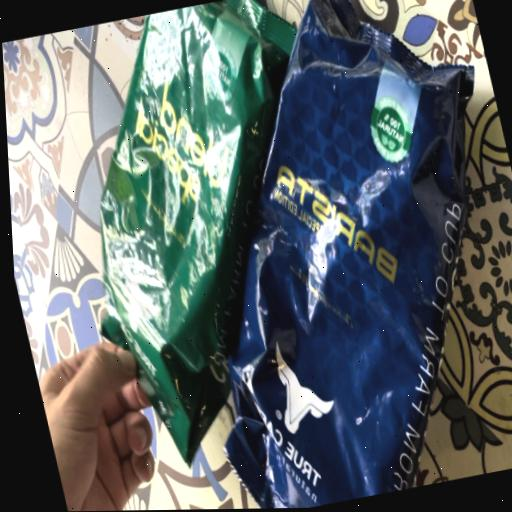cafe_hat: (225, 0, 473, 509)
cafe_xay: (99, 0, 294, 460)
